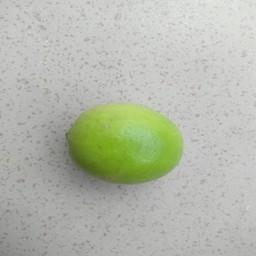Good_lime: (63, 99, 186, 188)
